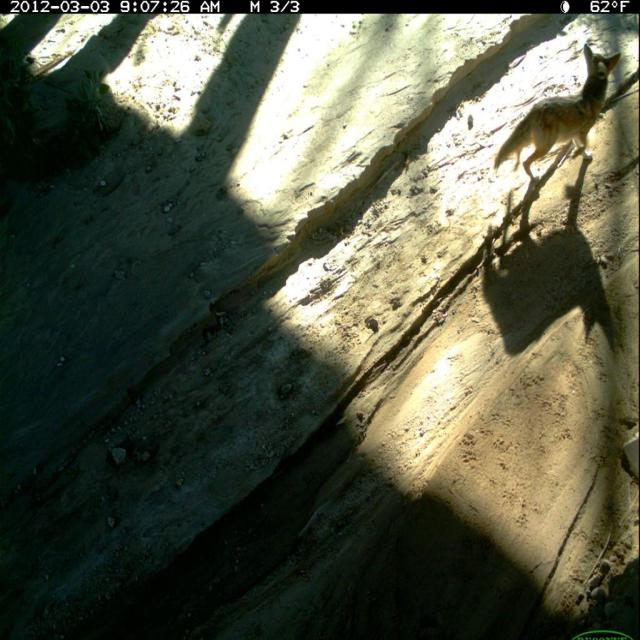coyote: (491, 38, 626, 186)
